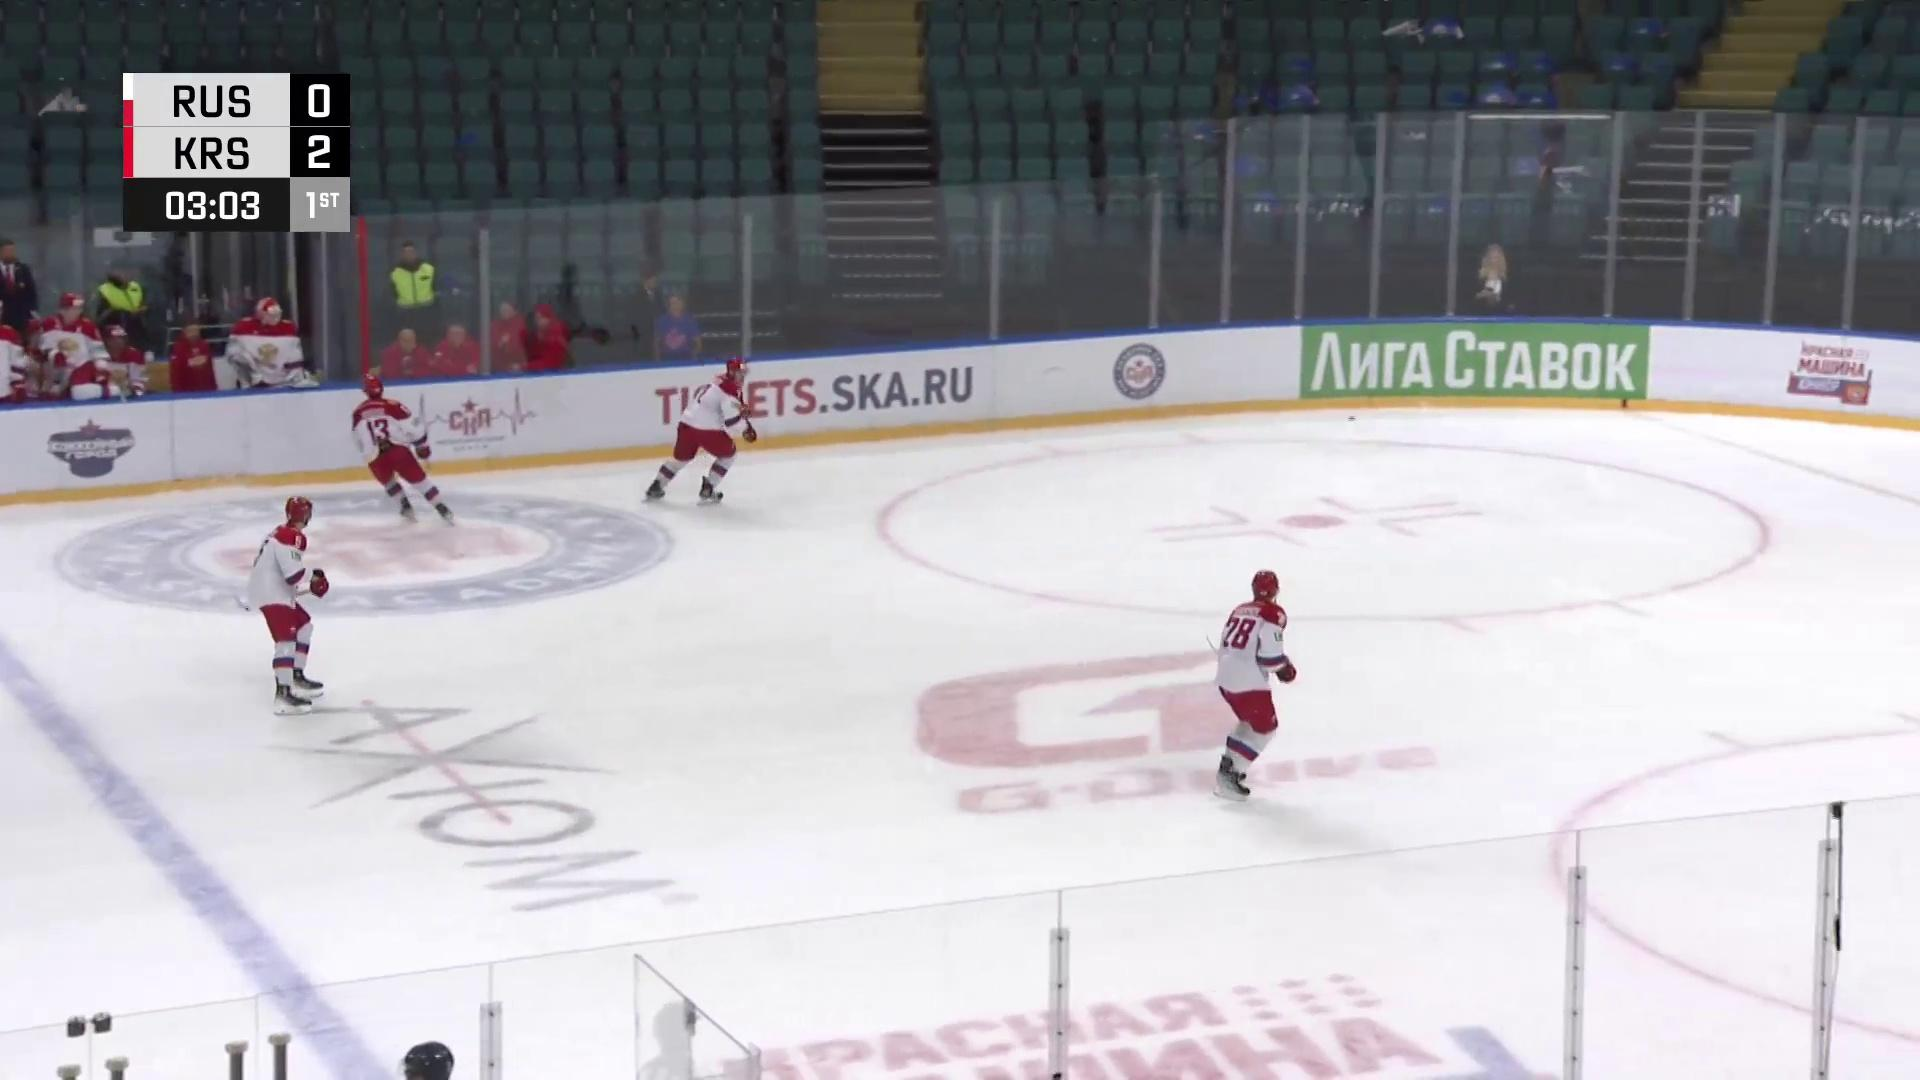ball: (1344, 414, 1358, 425)
